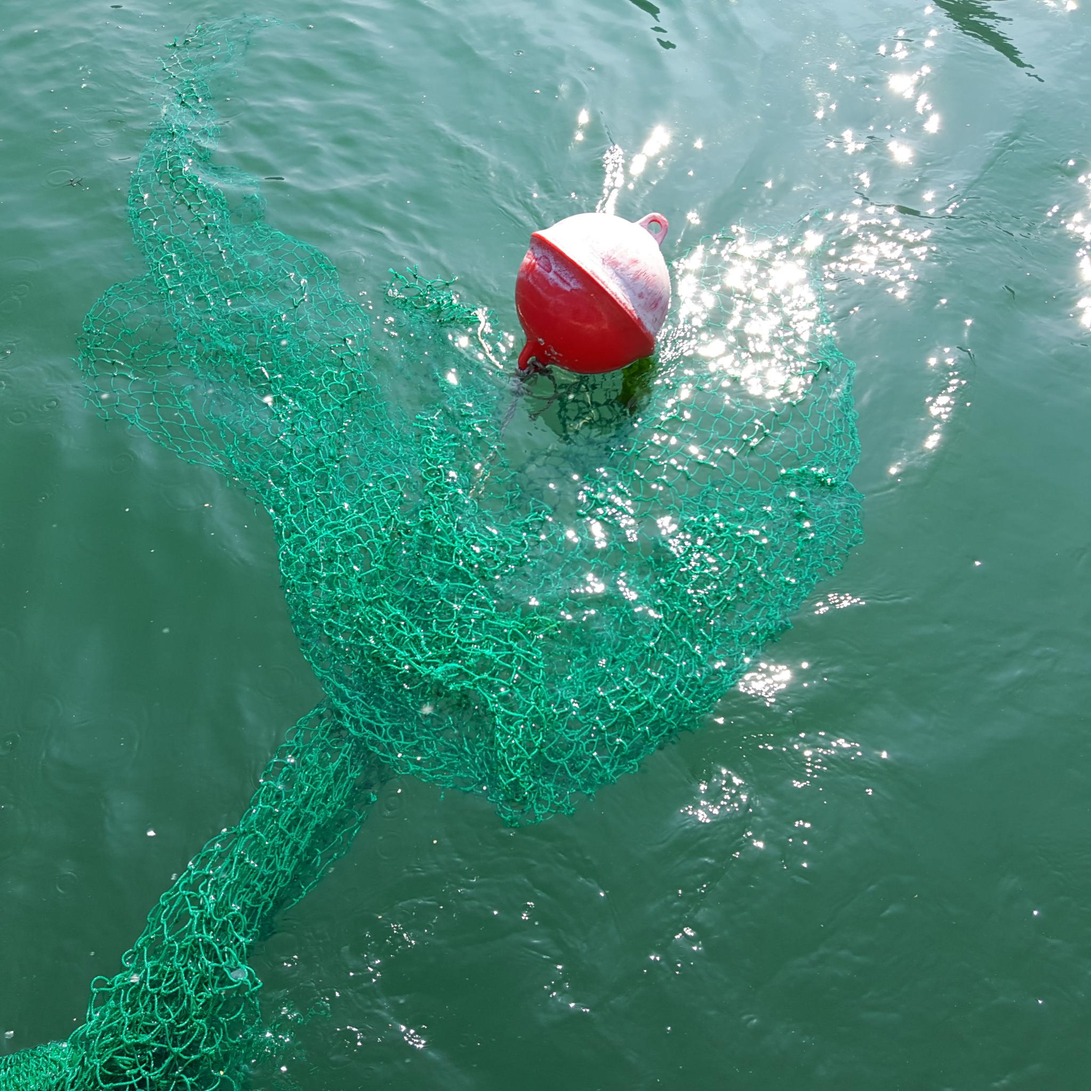sampah_terapung: (1, 14, 867, 1091), (516, 213, 671, 371), (470, 310, 561, 440)
